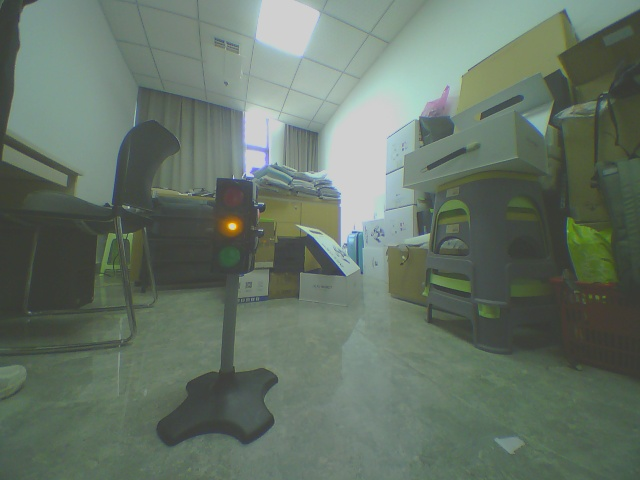Yellow: (192, 156, 274, 286)
